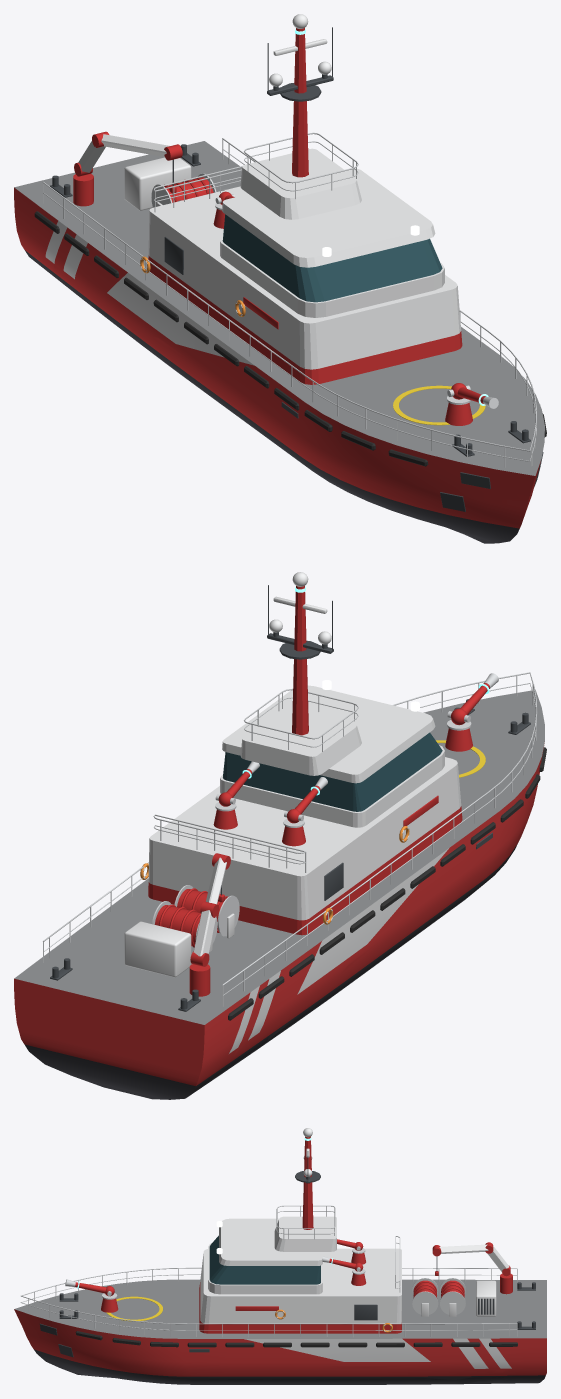
File: fireboat.glb
3 views of the same model, one above another, from view 1: azimuth 30°, elevation 25°; view 2: azimuth 150°, elevation 25°; view 3: azimuth 270°, elevation 25° (orthographic). The views are drawn at different scales.
Parts seen in each view (by area): view 1: fire_hull, fire_house, fire_bridge_roof, fire_bridge_glass, fire_wheelhouse_top, fire_bridge_body, fire_mast, fire_rail0, fire_utility, fire_monitor_bow, fire_reel-12, fire_bridge_rail (+3 smaller); view 2: fire_hull, fire_house, fire_bridge_roof, fire_bridge_glass, fire_wheelhouse_top, fire_mast, fire_bridge_body, fire_rail0, fire_utility, fire_monitor_bow, fire_house_rail, fire_reel-12 (+6 smaller); view 3: fire_hull, fire_house, fire_bridge_roof, fire_rail0, fire_bridge_glass, fire_wheelhouse_top, fire_bridge_body, fire_mast, fire_reel-12, fire_reel-10, fire_utility, fire_monitor_bow (+5 smaller).
Part boxes in pixels (x1,y1,x2,y2): fire_hull: (14, 141, 544, 543); fire_house: (148, 186, 462, 384); fire_bridge_roof: (222, 168, 435, 267); fire_bridge_glass: (222, 214, 442, 302); fire_wheelhouse_top: (240, 148, 361, 219); fire_bridge_body: (220, 238, 444, 317); fire_mast: (267, 14, 333, 177); fire_rail0: (43, 138, 537, 467); fire_utility: (124, 157, 191, 210); fire_monitor_bow: (445, 383, 498, 425); fire_reel-12: (151, 173, 216, 207); fire_bridge_rail: (244, 132, 358, 199); fire_hull: (14, 690, 544, 1099); fire_house: (148, 757, 462, 935); fire_bridge_roof: (222, 685, 435, 783); fire_bridge_glass: (223, 732, 442, 811); fire_wheelhouse_top: (240, 707, 361, 775); fire_mast: (267, 572, 333, 735); fire_bridge_body: (220, 745, 444, 827); fire_rail0: (43, 672, 537, 1006); fire_utility: (124, 921, 191, 977); fire_monitor_bow: (445, 673, 498, 751); fire_house_rail: (153, 814, 306, 872); fire_reel-12: (152, 901, 217, 947); fire_hull: (14, 1279, 546, 1384); fire_house: (199, 1248, 401, 1333); fire_bridge_roof: (219, 1218, 322, 1265); fire_rail0: (20, 1267, 517, 1337); fire_bridge_glass: (209, 1235, 320, 1284); fire_wheelhouse_top: (274, 1216, 336, 1251); fire_bridge_body: (208, 1243, 322, 1294); fire_mast: (295, 1128, 320, 1229); fire_reel-12: (440, 1278, 465, 1314); fire_reel-10: (412, 1278, 438, 1314); fire_utility: (476, 1280, 496, 1316); fire_monitor_bow: (65, 1279, 118, 1312).
Size of the model in its own units: 9.97 by 18.77 by 36.8.
